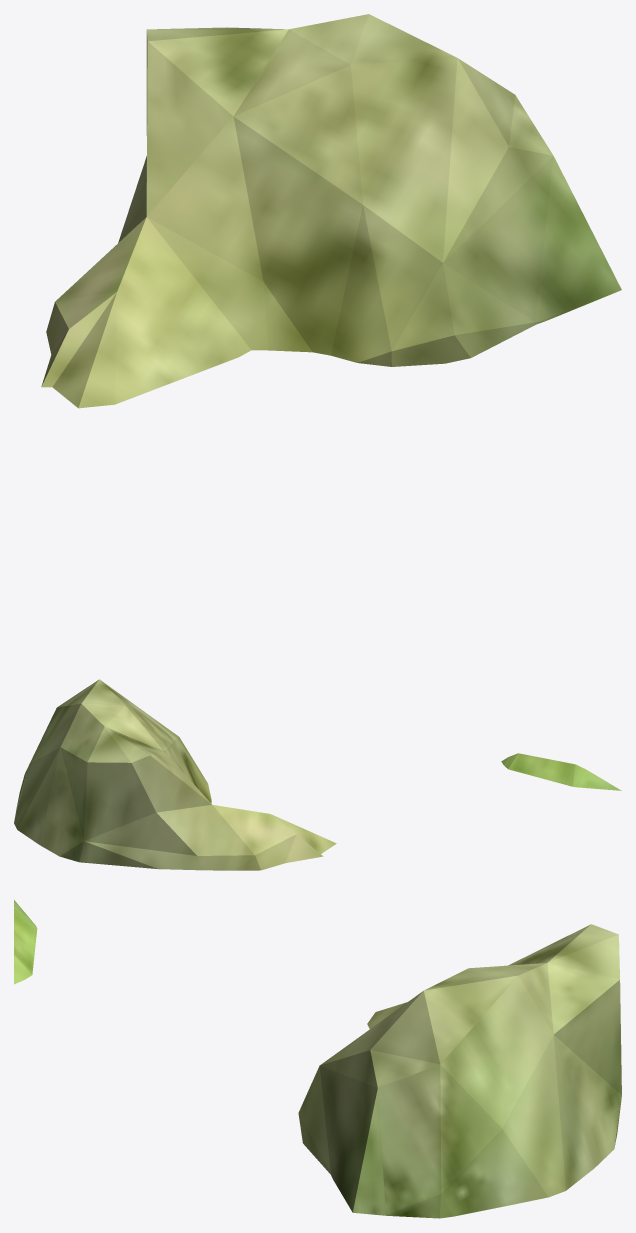
The picture shows the model from 3 angles, top to bottom: view 1: azimuth 30°, elevation 25°; view 2: azimuth 150°, elevation 25°; view 3: azimuth 270°, elevation 25°; orthographic projection. The views are drawn at different scales.
Bounding box in the file's own units: 1.98 × 0.5256 × 1.59.
Materials: 1 (1 with a texture image).
